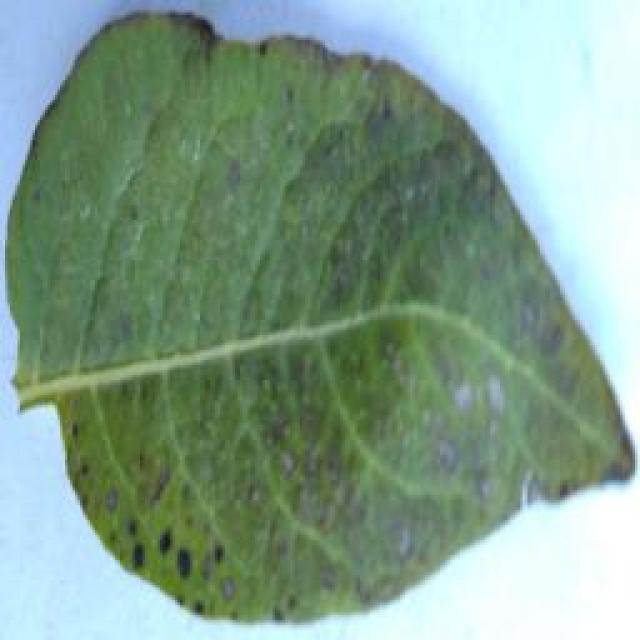Potato_Early_Blight: (5, 12, 636, 631)
